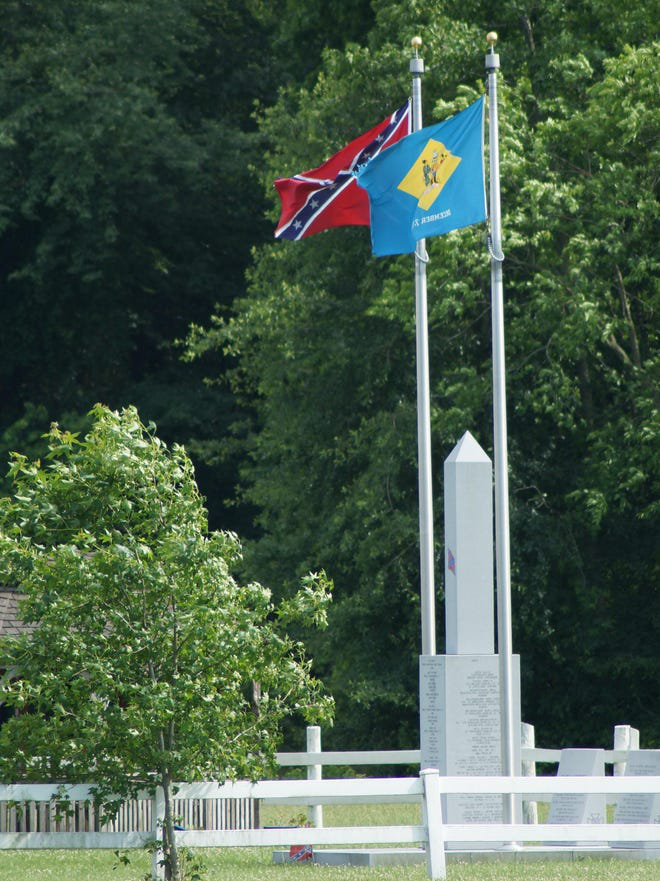Delaware flag: (366, 93, 487, 252)
